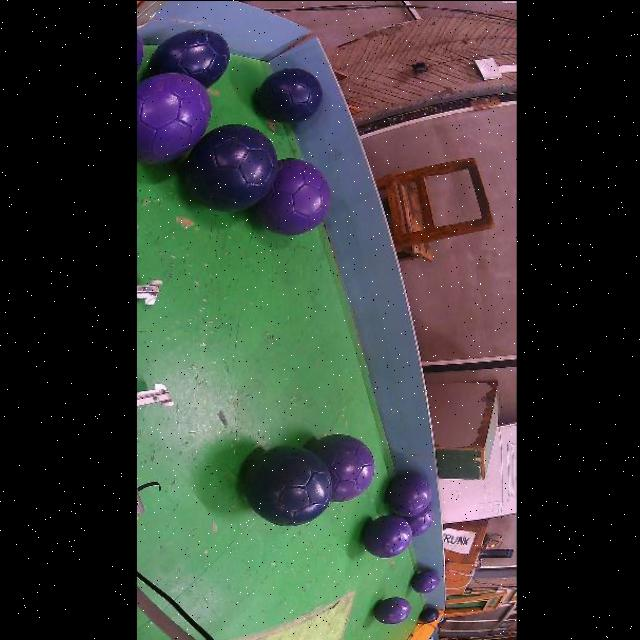B: (185, 124, 278, 211), (245, 446, 332, 526), (147, 29, 229, 87), (257, 67, 323, 123), (419, 607, 439, 623)
P: (137, 72, 210, 163), (253, 158, 331, 235), (309, 434, 374, 503), (386, 475, 434, 536), (362, 515, 412, 558), (401, 505, 434, 536), (374, 598, 411, 624), (411, 570, 440, 594)
